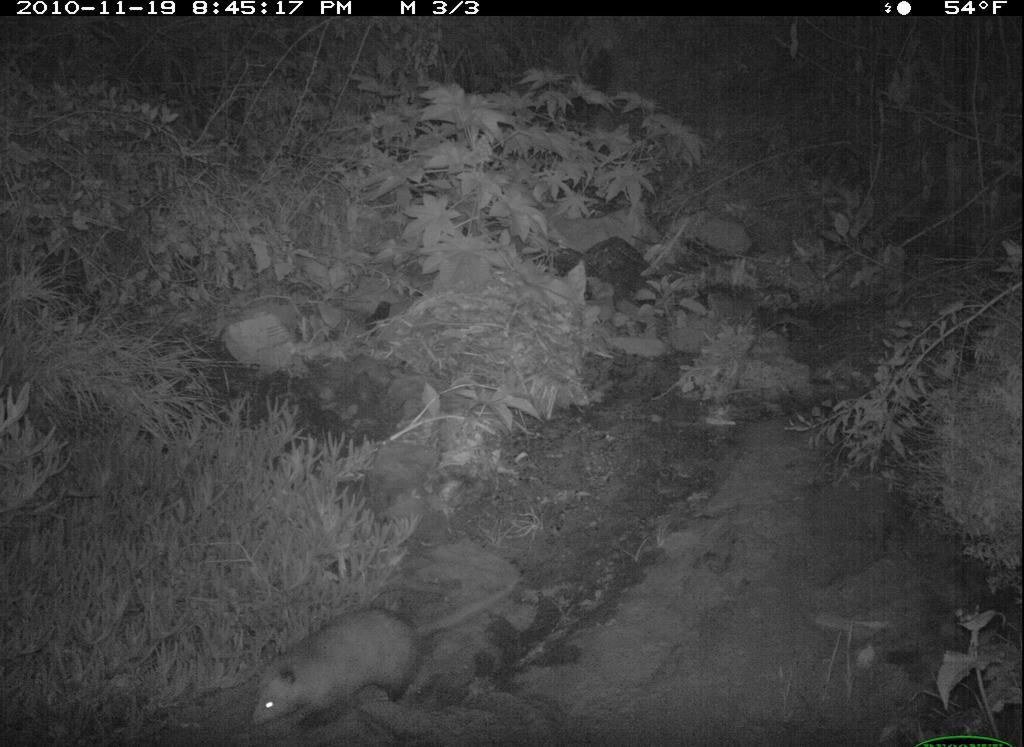opossum: (231, 577, 473, 743)
